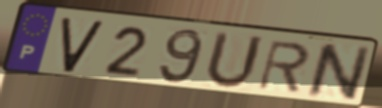2: (105, 24, 152, 78)
9: (156, 27, 207, 86)
N: (304, 41, 374, 103)
R: (255, 39, 313, 95)
U: (201, 29, 266, 91)
V: (59, 16, 107, 74)
